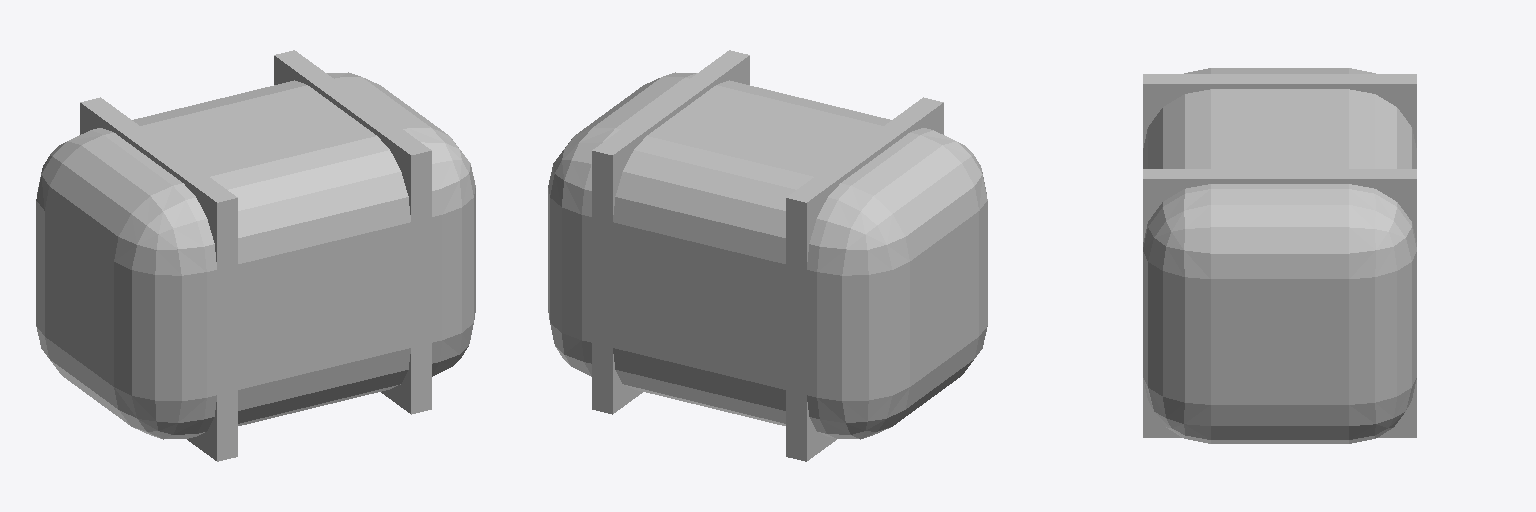
File: metalCrate.obj
3 renders of one model, left to right at view 1: azimuth 30°, elevation 25°; view 2: azimuth 150°, elevation 25°; view 3: azimuth 270°, elevation 25°, orthographic.
Visible parts, largest first — view 1: obj1; view 2: obj1; view 3: obj1.
Boxes of the visible parts, x1,y1,x2,y2 form: obj1: [36, 50, 475, 461]; obj1: [548, 50, 987, 461]; obj1: [1143, 68, 1416, 443].
Size of the model in its own units: 297 by 208 by 200.